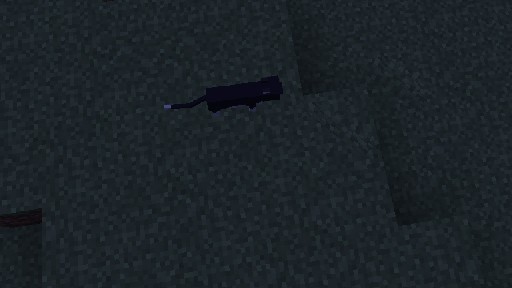cat: (163, 74, 283, 115)
